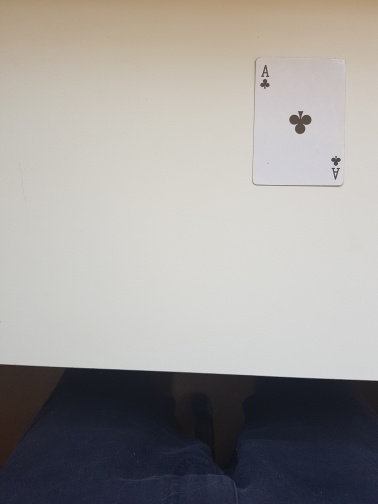ace: (250, 55, 347, 189)
